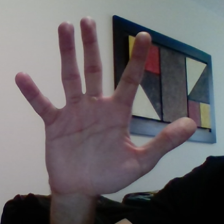left: (5, 7, 206, 200)
